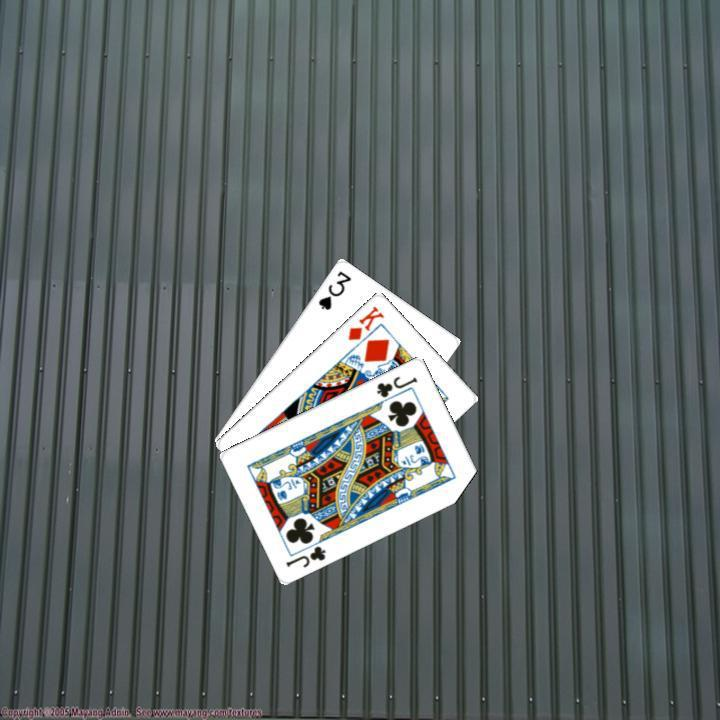3: (314, 266, 353, 312)
J: (372, 371, 419, 399), (281, 541, 328, 569)
K: (343, 301, 386, 342)
